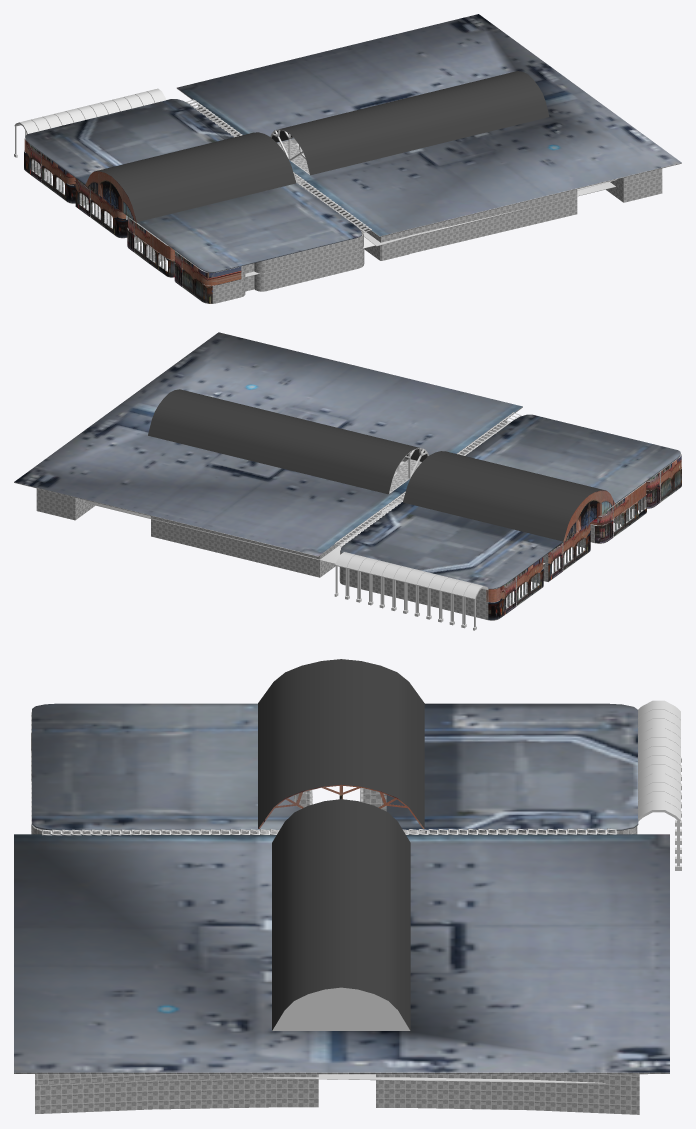
File: kauppakeskus duo3.fbx
3 renders of one model, top to bottom at view 1: azimuth 30°, elevation 25°; view 2: azimuth 150°, elevation 25°; view 3: azimuth 270°, elevation 25°, orthographic. The views are drawn at different scales.
Parts seen in each view (by area): view 1: Cube, katto, Cylinder.002, Cylinder.001, Plane, ker2, Plane.004, Plane.002, Plane.003; view 2: Cube, katto, Cylinder.002, Cylinder.001, Plane, Plane.004, ker2, Plane.002, Plane.003; view 3: Cube, katto, Cylinder.002, Cylinder.001, Plane, Plane.004, ker2, Plane.002, Cube.001.
Boxes of the visible parts, left/top/right/bottom form: Cube: left=176, top=14, right=681, bottom=236; katto: left=25, top=99, right=361, bottom=272; Cylinder.002: left=270, top=71, right=549, bottom=175; Cylinder.001: left=85, top=132, right=309, bottom=223; Plane: left=24, top=150, right=662, bottom=303; ker2: left=24, top=105, right=662, bottom=285; Plane.004: left=14, top=88, right=166, bottom=157; Plane.002: left=186, top=99, right=371, bottom=232; Plane.003: left=197, top=108, right=615, bottom=277; Cube: left=14, top=332, right=522, bottom=556; katto: left=340, top=414, right=680, bottom=589; Cylinder.002: left=148, top=389, right=428, bottom=494; Cylinder.001: left=389, top=451, right=615, bottom=542; Plane: left=36, top=467, right=681, bottom=620; Plane.004: left=334, top=552, right=488, bottom=630; ker2: left=151, top=419, right=681, bottom=602; Plane.002: left=334, top=412, right=521, bottom=546; Plane.003: left=85, top=501, right=596, bottom=564; Cube: left=14, top=834, right=669, bottom=1074; katto: left=32, top=703, right=638, bottom=831; Cylinder.002: left=272, top=799, right=410, bottom=1030; Cylinder.001: left=257, top=659, right=425, bottom=833; Plane: left=31, top=753, right=639, bottom=1114; Plane.004: left=638, top=700, right=681, bottom=870; ker2: left=31, top=712, right=637, bottom=1085; Plane.002: left=42, top=828, right=616, bottom=835; Cube.001: left=249, top=1074, right=605, bottom=1083.
Size of the model in its own units: 36255 by 4387 by 27628.
